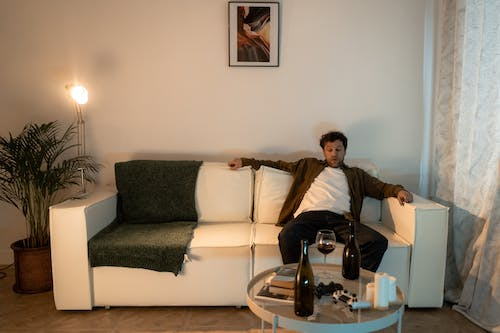alcohol: (293, 238, 315, 317), (341, 219, 360, 281), (315, 229, 336, 278)
